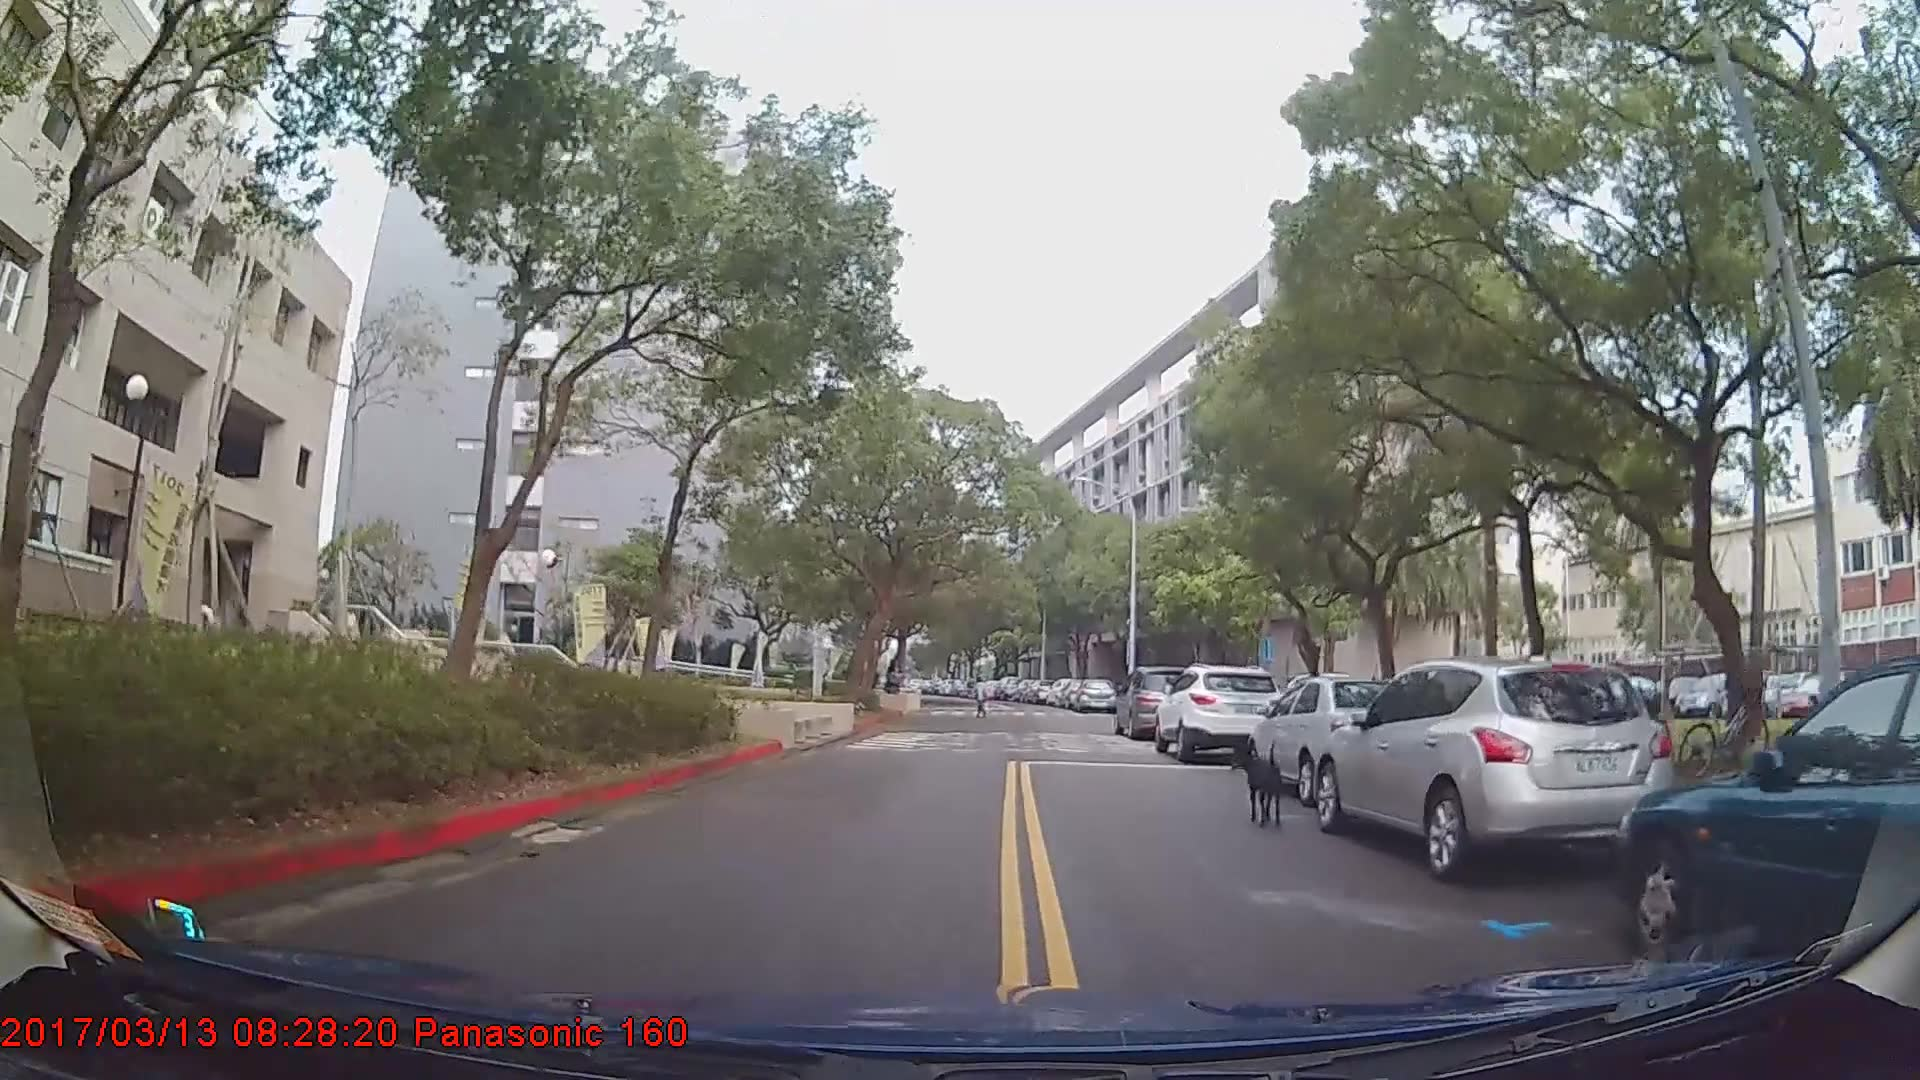pedestrian: (970, 678, 990, 720)
vehicle: (1615, 662, 1920, 970), (1319, 656, 1677, 882), (1245, 673, 1431, 808), (1154, 662, 1284, 761), (1111, 665, 1210, 738), (1073, 678, 1115, 715), (990, 672, 1017, 700)
